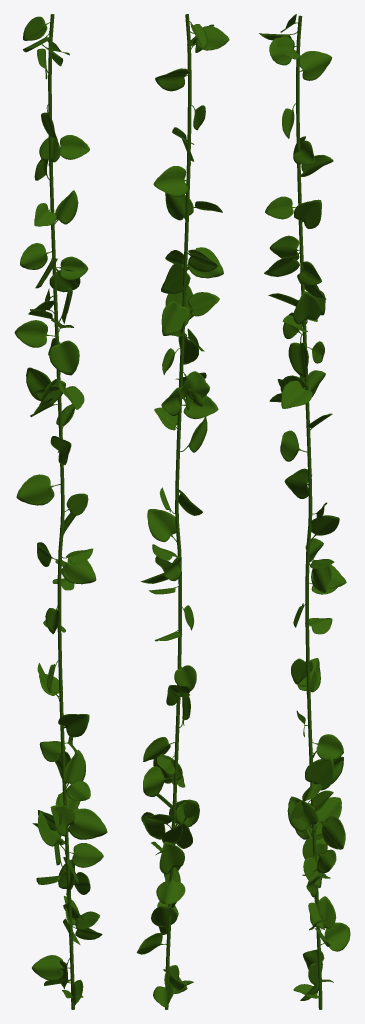
File: SingleLongVine.obj
The picture shows the model from 3 angles, left to right: view 1: azimuth 30°, elevation 25°; view 2: azimuth 150°, elevation 25°; view 3: azimuth 330°, elevation 25°; orthographic projection.
Visible parts, largest first — view 1: BezierCurve_Leaf_Texture.001, BezierCurve_Leaf_Texture; view 2: BezierCurve_Leaf_Texture.001, BezierCurve_Leaf_Texture; view 3: BezierCurve_Leaf_Texture.001, BezierCurve_Leaf_Texture.
Part boxes in pixels (x1=…): BezierCurve_Leaf_Texture.001: x1=14, y1=16, x2=107, y2=1005; BezierCurve_Leaf_Texture: x1=48, y1=14, x2=74, y2=1009; BezierCurve_Leaf_Texture.001: x1=136, y1=21, x2=229, y2=1007; BezierCurve_Leaf_Texture: x1=165, y1=14, x2=191, y2=1009; BezierCurve_Leaf_Texture.001: x1=259, y1=14, x2=350, y2=1000; BezierCurve_Leaf_Texture: x1=296, y1=15, x2=322, y2=1009.
Bounding box in the file's own units: 0.522 × 5.84 × 0.4634.
